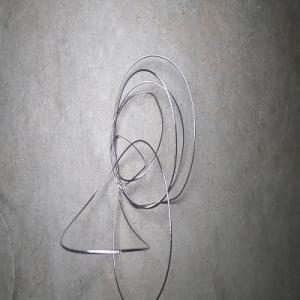Wire: (60, 53, 195, 300)
